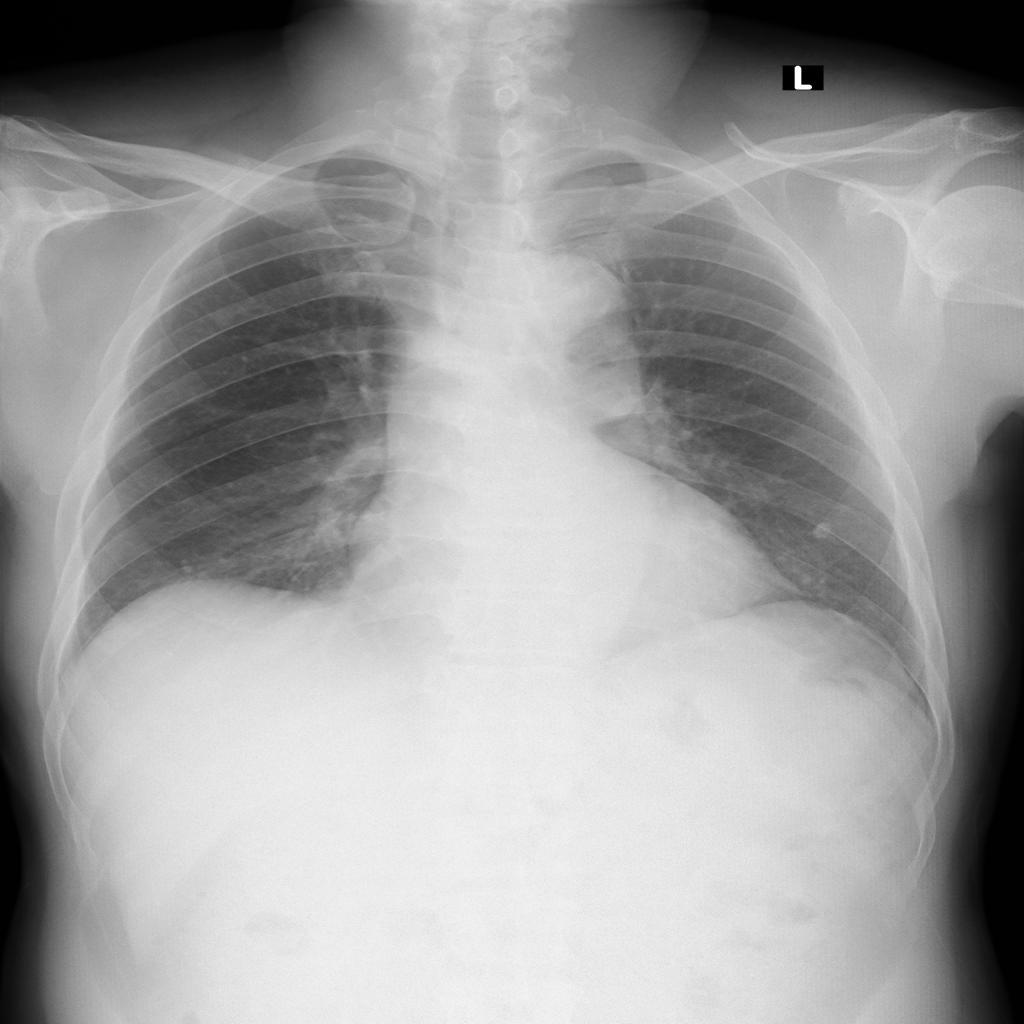Nodule: (811, 523, 832, 539)
